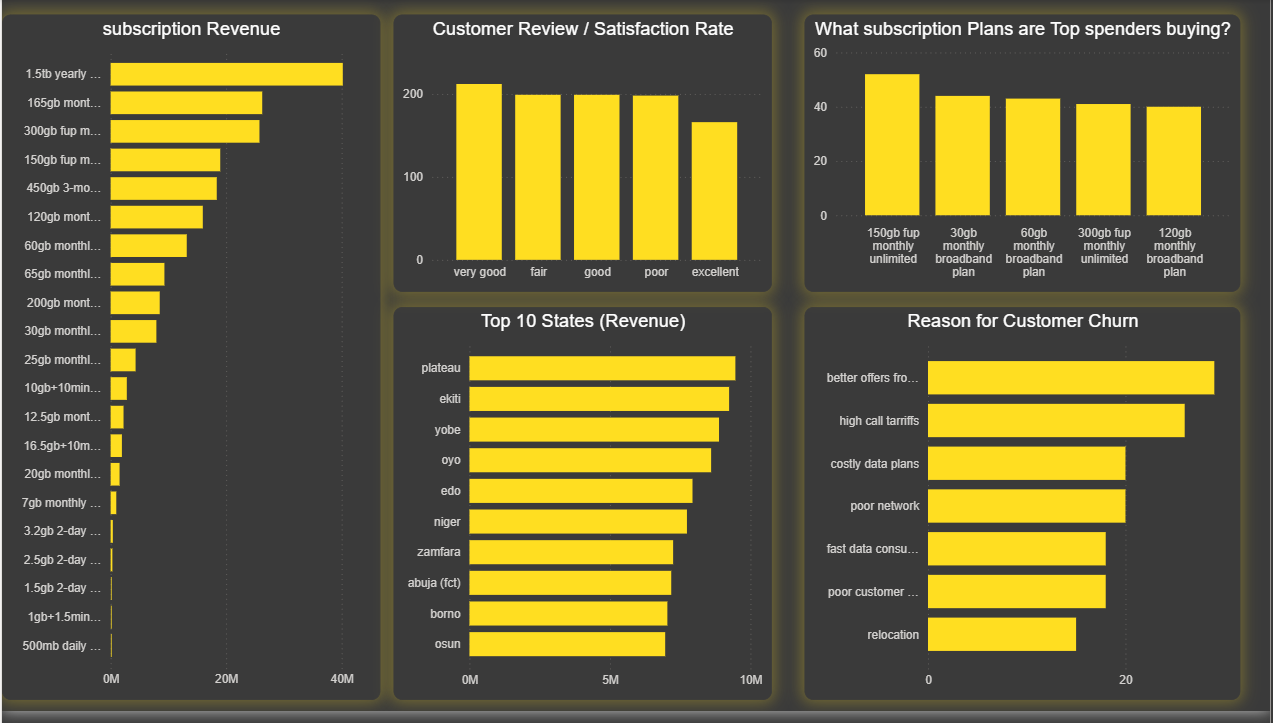

What the dashboard file says about the page in this screenshot:
{"tool":"powerbi","page":{"name":"Page 3","canvas":[1280,720],"ordinal":2},"visuals":[{"type":"clusteredBarChart","title":"subscription Revenue","fields":{"Category":["mtn_clean.subscription_plan"],"Y":["Sum(mtn_clean.total_revenue)"]},"box":[0,16.7,381.7,691.7],"z":0},{"type":"clusteredBarChart","title":"Reason for Customer Churn","fields":{"Category":["churn_reason.Reason"],"Y":["Sum(churn_reason.Churn)"]},"box":[810,311.7,440,396.7],"z":1000},{"type":"clusteredColumnChart","title":"What subscription Plans are Top spenders buying?","fields":{"Category":["top_spenders_sub.Subs"],"Y":["Sum(top_spenders_sub.Purchase)"]},"box":[810,16.7,440,280],"z":2000},{"type":"clusteredBarChart","title":"Top 10 States (Revenue)","fields":{"Category":["top_region_revenue.state"],"Y":["Sum(top_region_revenue.total_revenue)"]},"box":[395,311.7,381.7,396.7],"z":3000},{"type":"clusteredColumnChart","title":"Customer Review / Satisfaction Rate","fields":{"Category":["mtn_clean (2).customer_review"],"Y":["CountNonNull(mtn_clean (2).customer_id)"]},"box":[395,16.7,381.7,280],"z":4000}]}

Visuals, with their boxes in screenshot pixels (x1, y1, x2, y2), scaled from the page's 1280x720 canvas onto the 1273x723 screenshot:
"subscription Revenue" clusteredBarChart: (x1=0, y1=17, x2=380, y2=711)
"Reason for Customer Churn" clusteredBarChart: (x1=806, y1=313, x2=1243, y2=711)
"What subscription Plans are Top spenders buying?" clusteredColumnChart: (x1=806, y1=17, x2=1243, y2=298)
"Top 10 States (Revenue)" clusteredBarChart: (x1=393, y1=313, x2=772, y2=711)
"Customer Review / Satisfaction Rate" clusteredColumnChart: (x1=393, y1=17, x2=772, y2=298)
